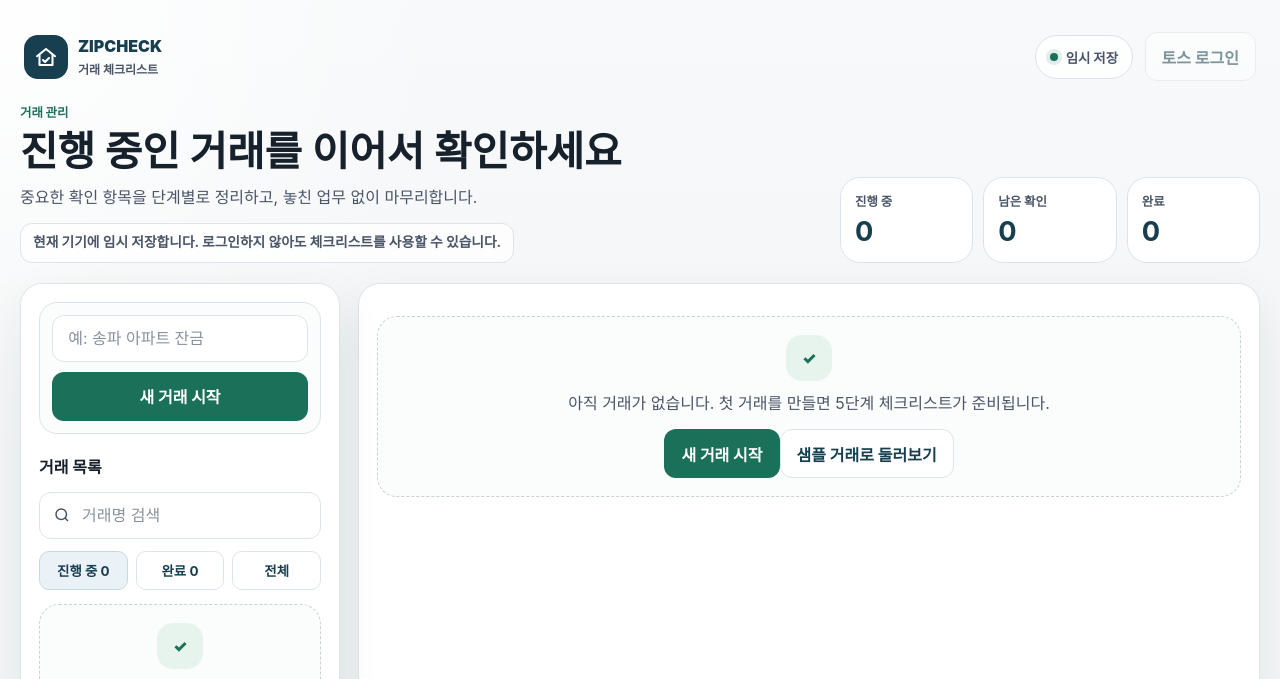
Test case: App broker checklist › keeps phase 4 guides reference-only without a completion action inside the guide sheet
Step 1. Type "참고 가이드 검증" into the field named "거래명" → [180, 338], box [52, 315, 308, 362]
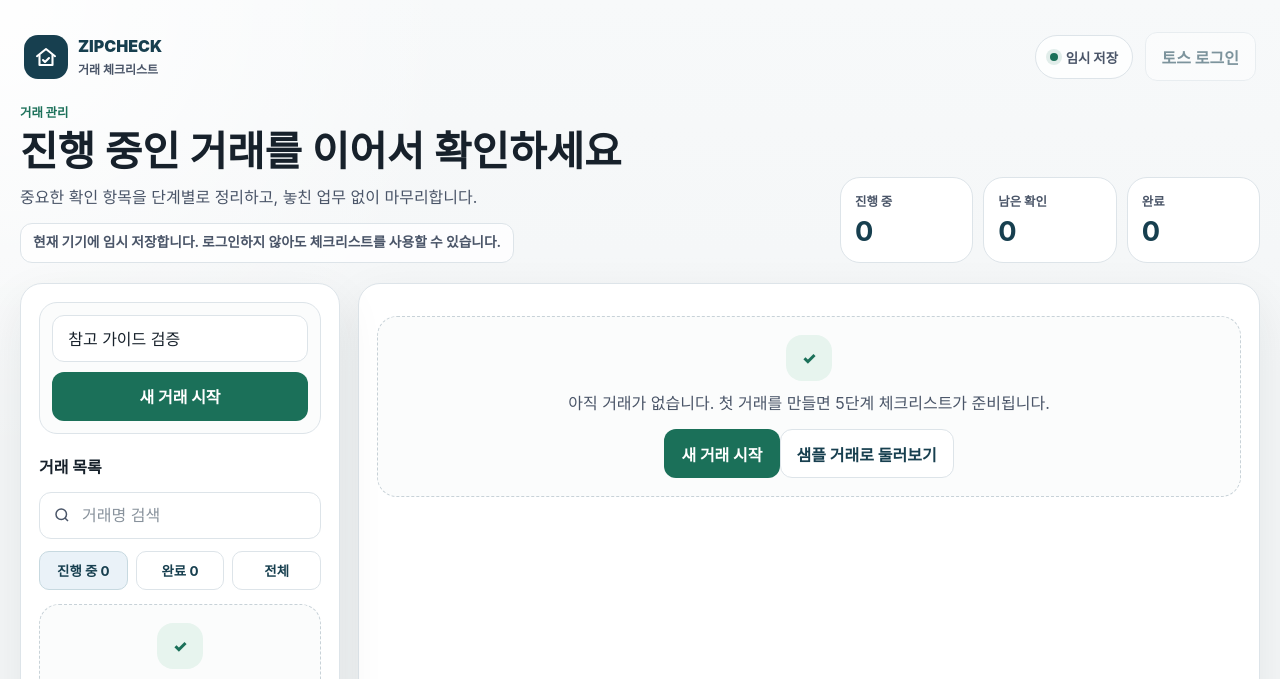
Step 2. Click the 1st button "새 거래 시작" → [180, 396], box [52, 372, 308, 421]
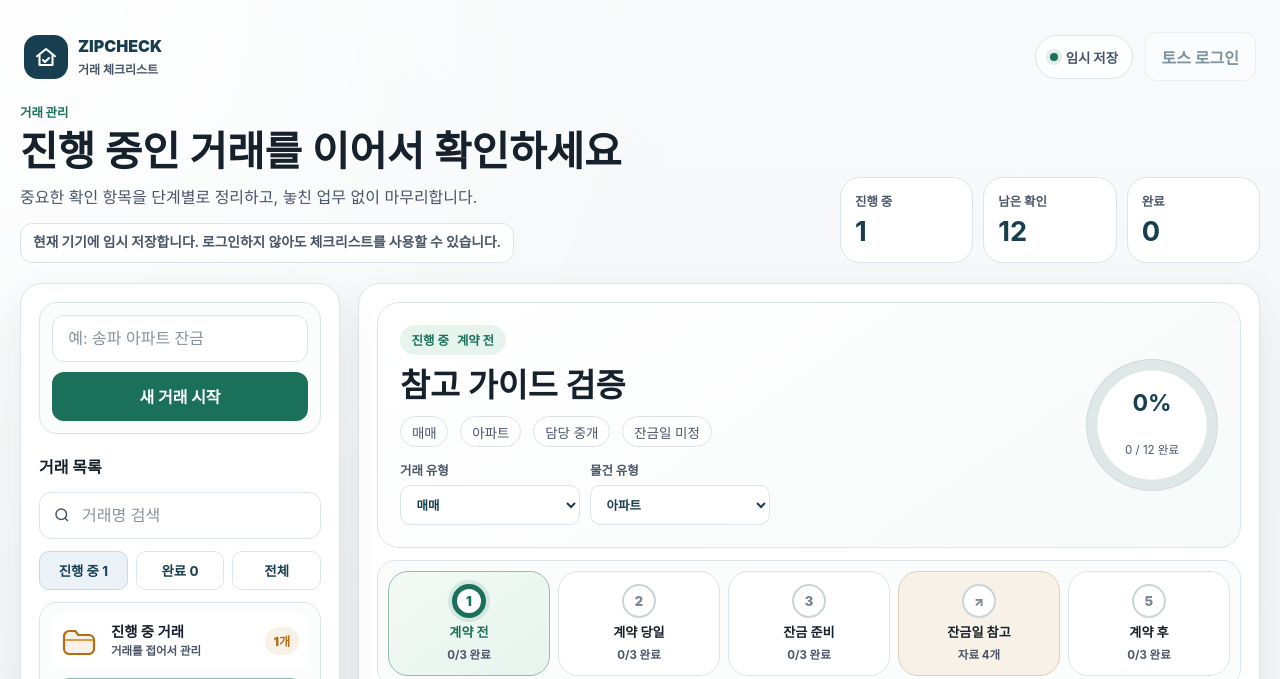
Step 3. Click the button "↗ 잔금일 참고 자료 4개" → [979, 624], box [898, 571, 1060, 676]
(page scrolled)
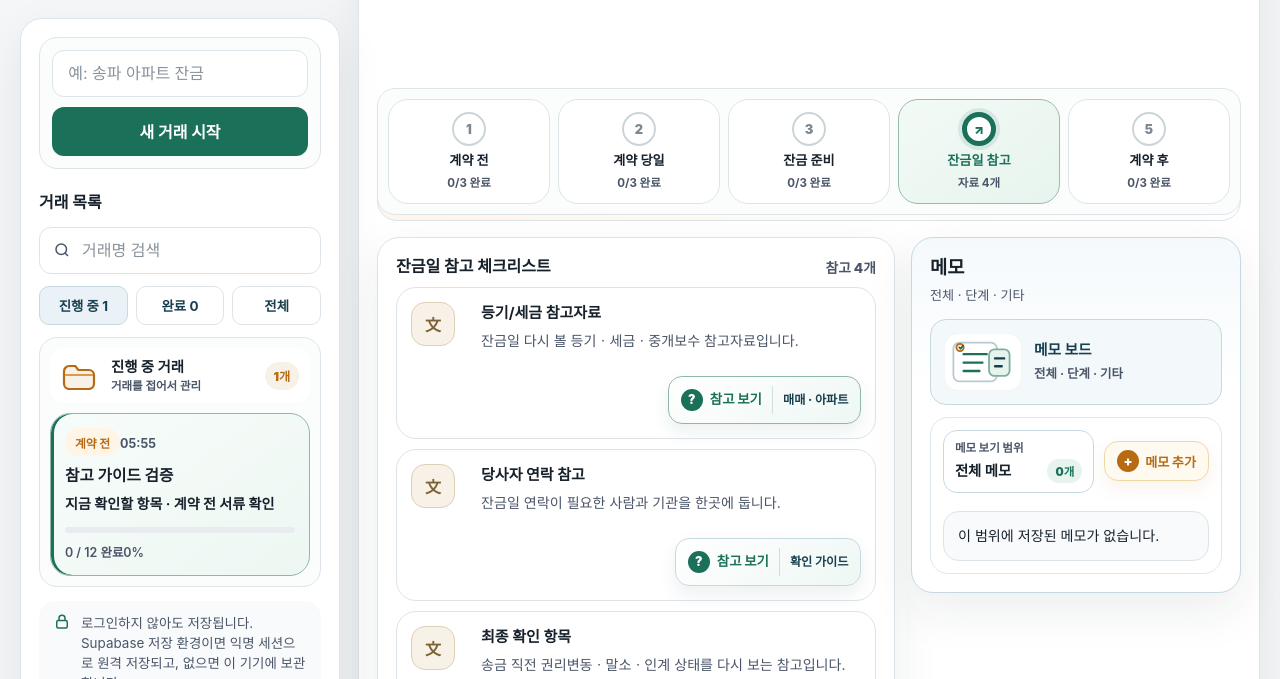
Step 4. Click the button with aria-label "등기/세금 참고자료 참고 보기" → [765, 400], box [668, 376, 861, 424]
(page scrolled)
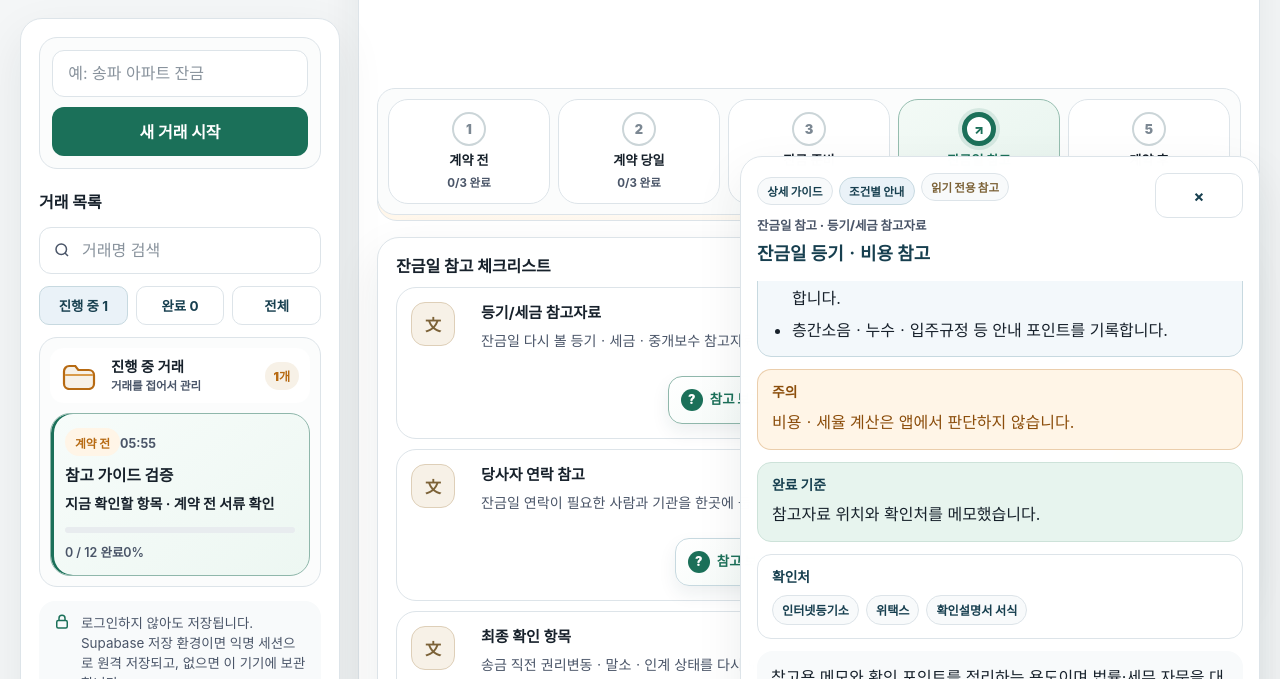
Expected: the button "완료하기" is not shown
Now the text "읽기 전용 참고" is shown, box [921, 173, 1009, 201]
Now the heading "완료 기준" is shown, box [772, 477, 826, 493]
